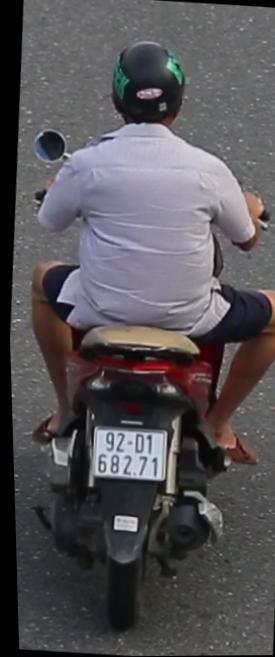LP: (85, 417, 169, 484)
helmet: (103, 32, 191, 139)
